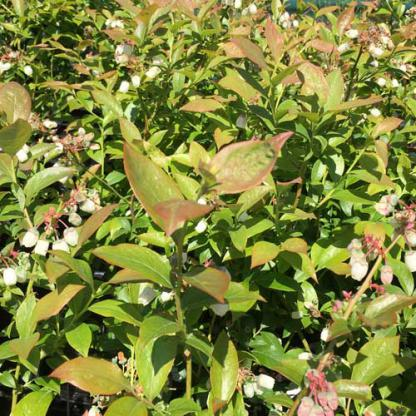Blueberry leaf: (194, 125, 300, 196), (112, 137, 192, 231), (92, 236, 183, 299), (43, 352, 145, 399), (210, 326, 247, 415), (180, 262, 248, 309), (359, 285, 415, 321)
